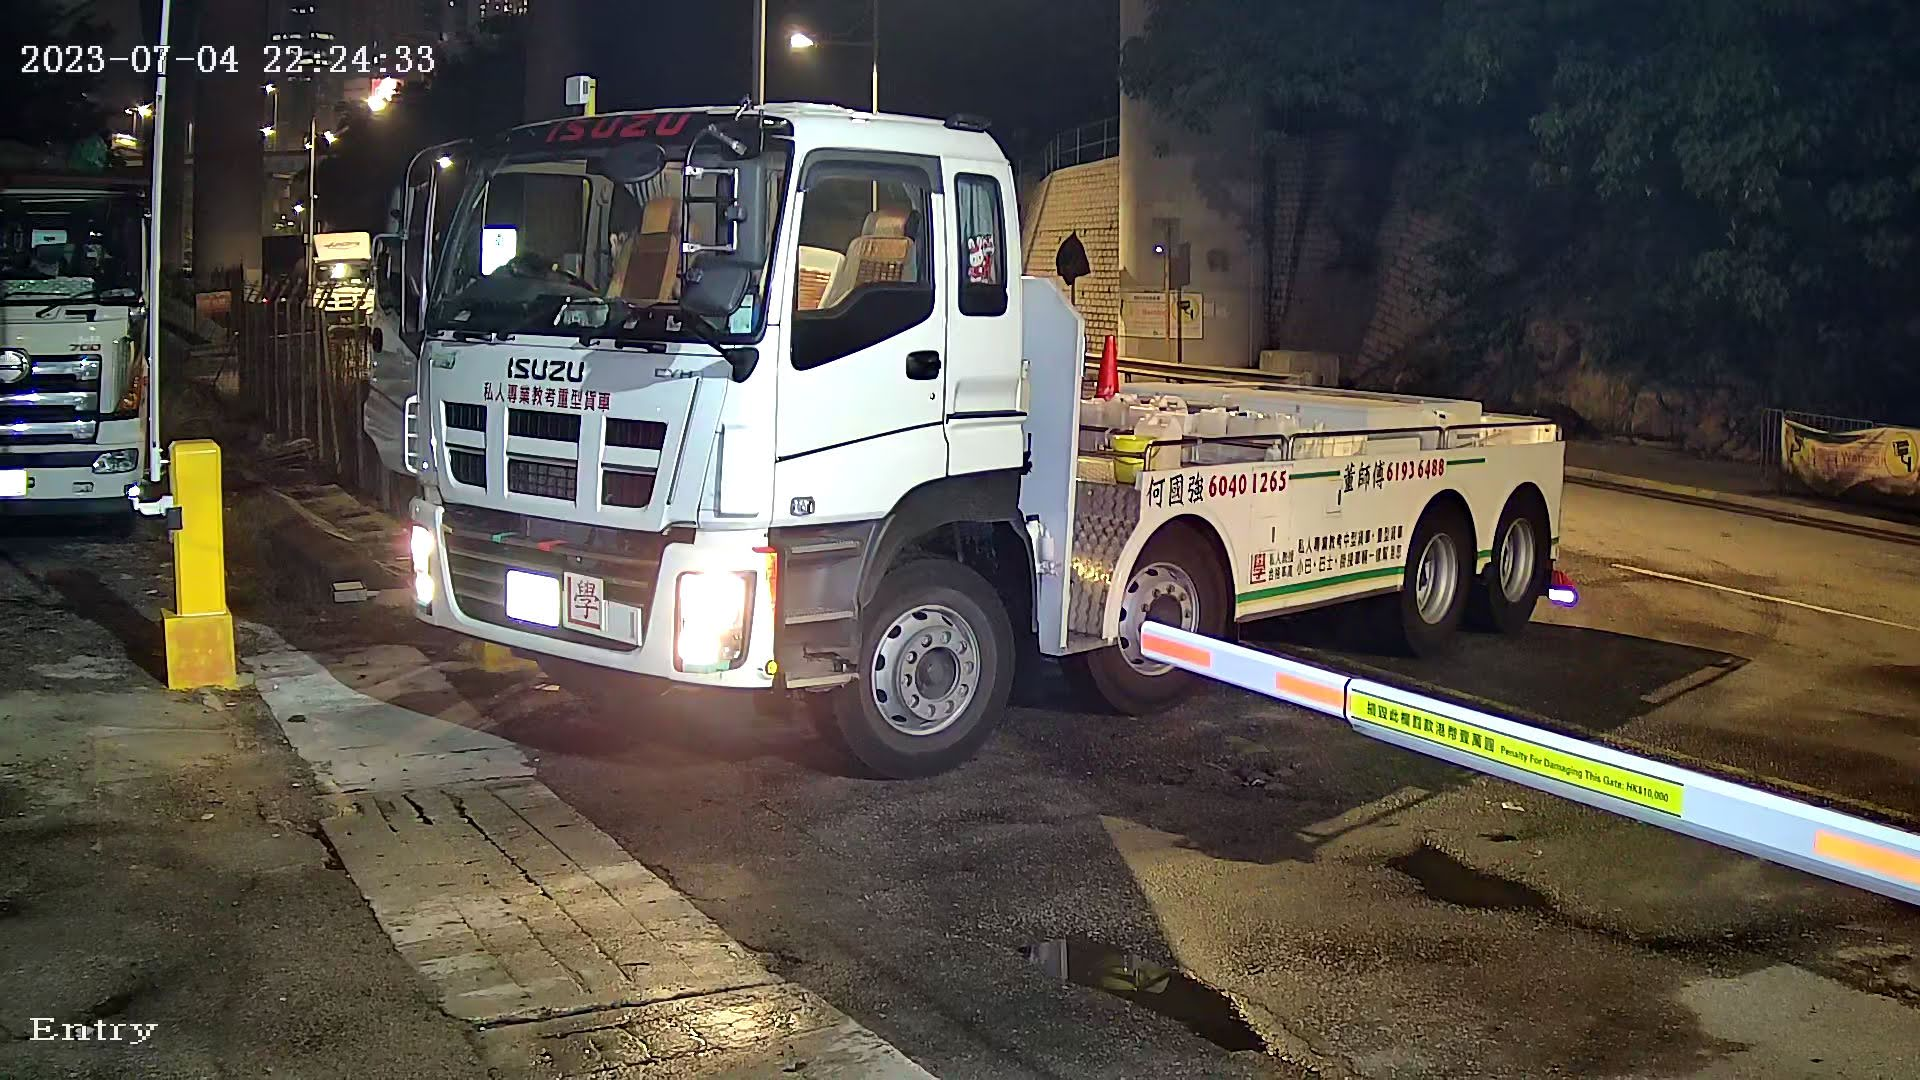truck: (363, 65, 1563, 766)
